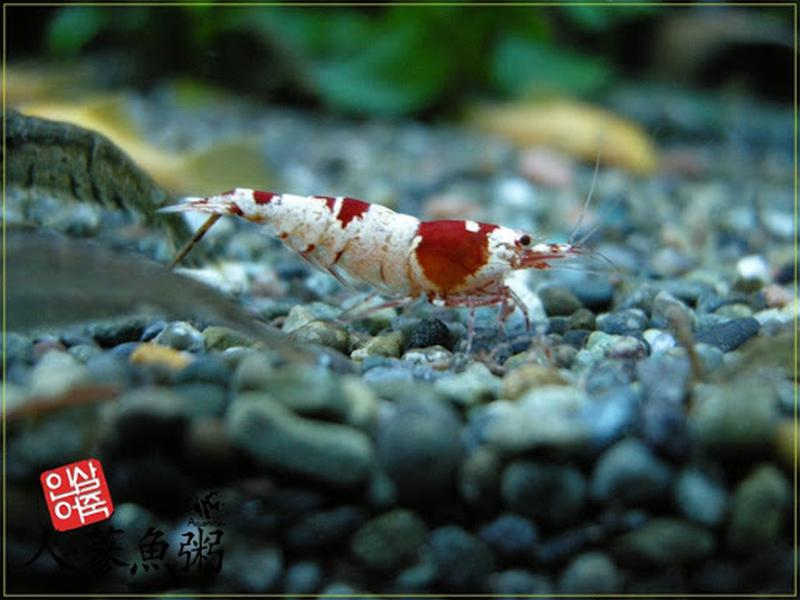shrimp: (156, 183, 582, 355)
